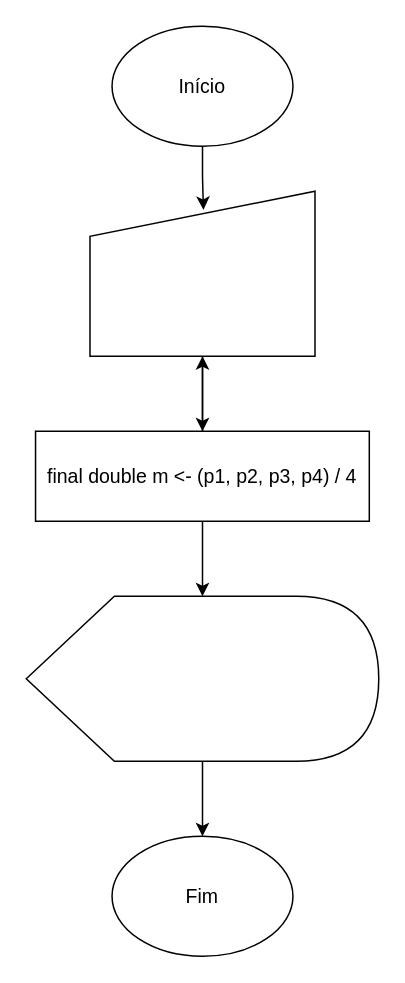
This 405x983 diagram has some shape labels left out. The shapes that lost their labels are listed below. From the top down, each one's box as (x1, y1, x2, y2) in pixels, then its label:
(88, 190, 315, 356): Scanner (p1, p2, p3, p4)
(25, 595, 379, 761): System.out.println("Média é", m)
